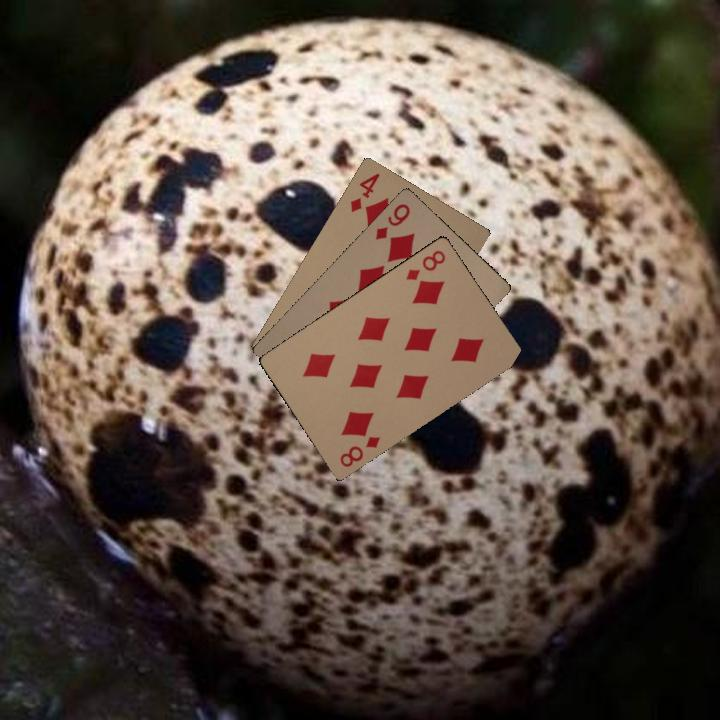4d: (346, 169, 382, 215)
8d: (336, 432, 383, 470), (402, 246, 448, 283)
9d: (371, 199, 413, 242)
